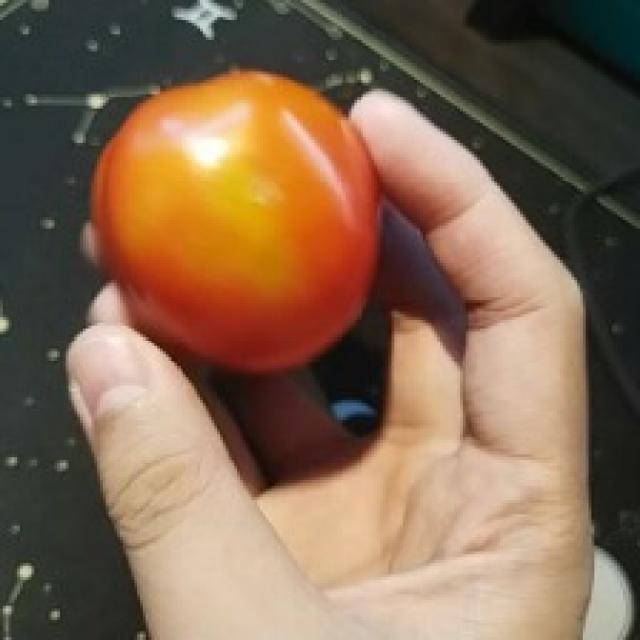Fresh Tomato: (91, 71, 380, 370)
